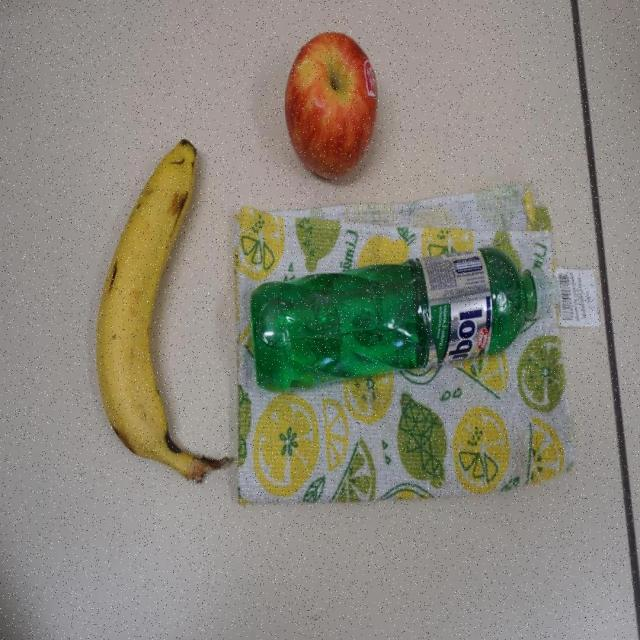Apple: (284, 31, 379, 186)
Banana: (94, 141, 219, 484)
Cleaner: (250, 247, 561, 392)
Cloth: (235, 184, 603, 506)
